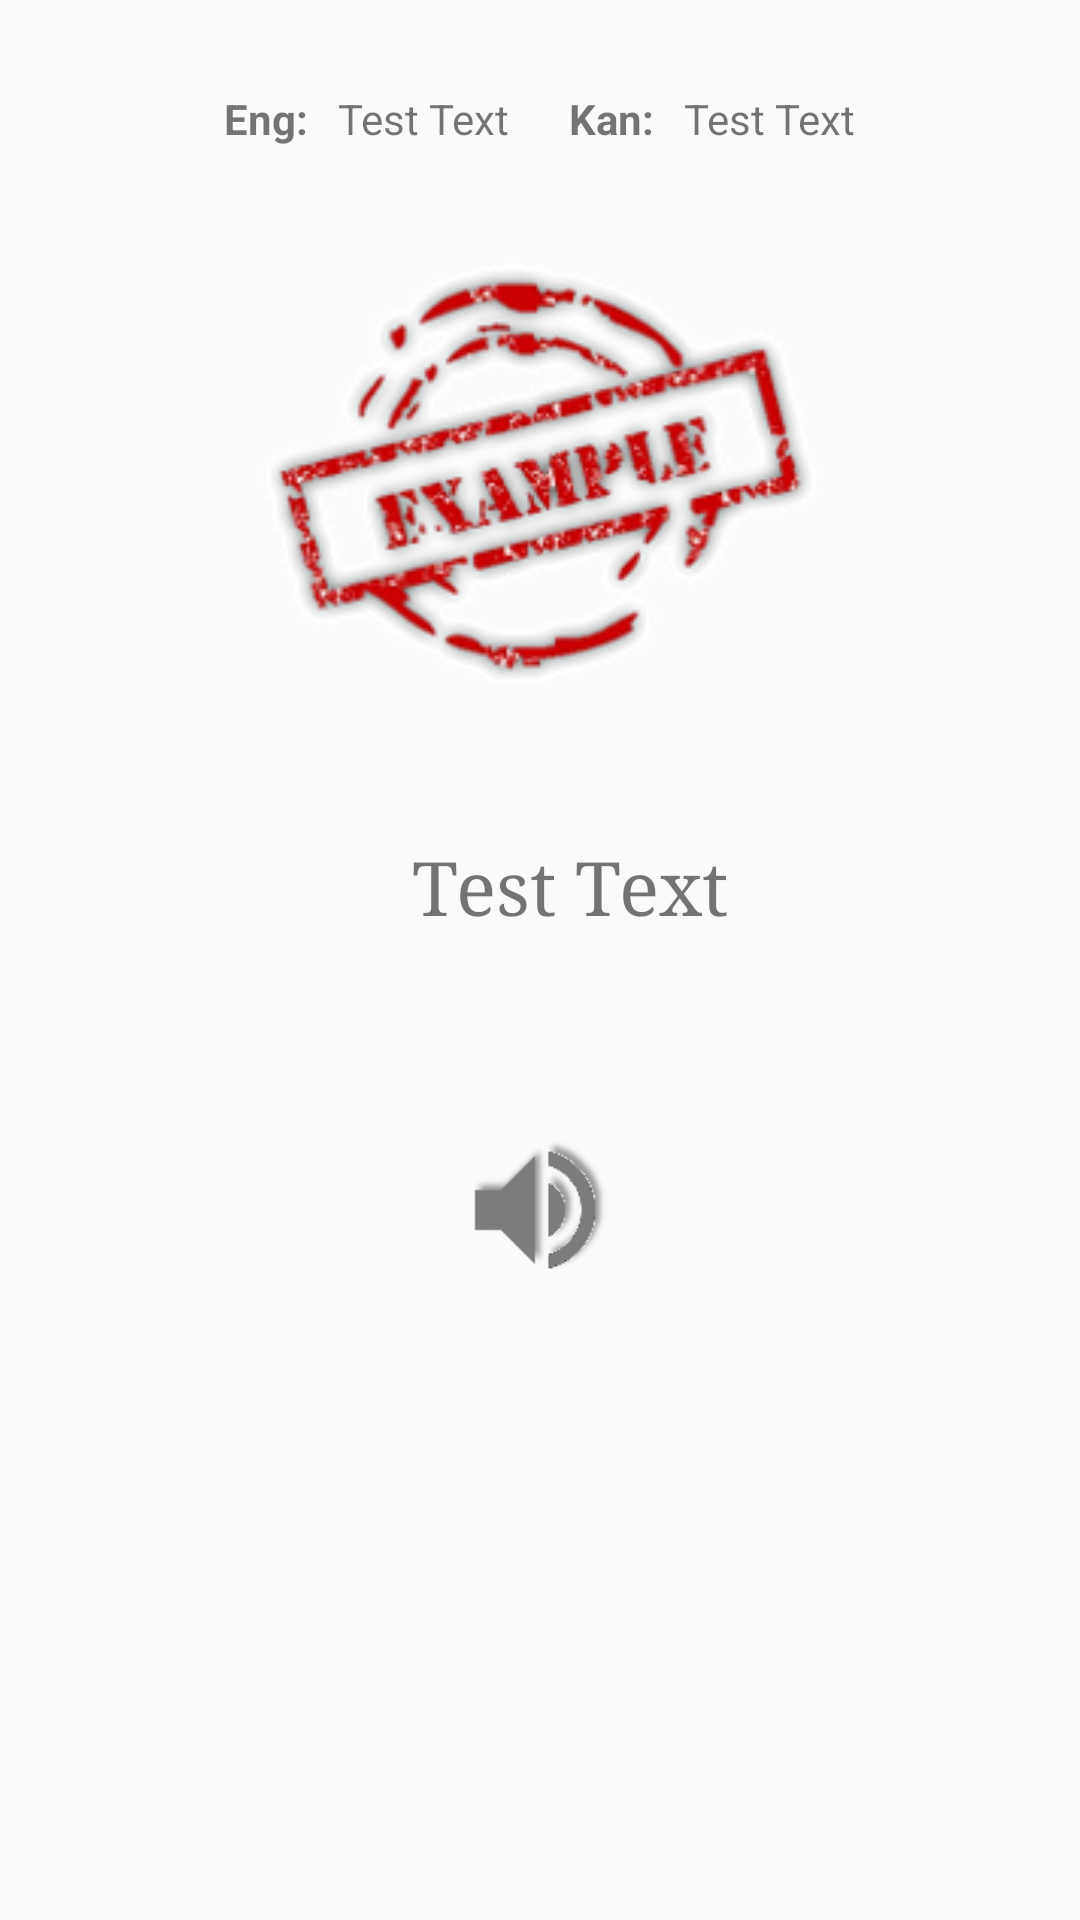

Icons on this 1080w x 1920h Android screen, each with its box as (x1, y1, x2, y2):
speaker: (474, 1145, 602, 1269)
